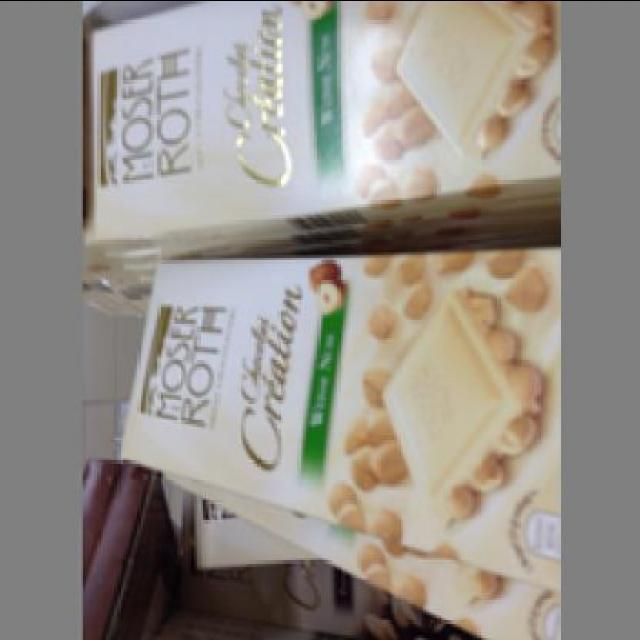Chocolate bar: (117, 247, 557, 564), (83, 4, 551, 248)
